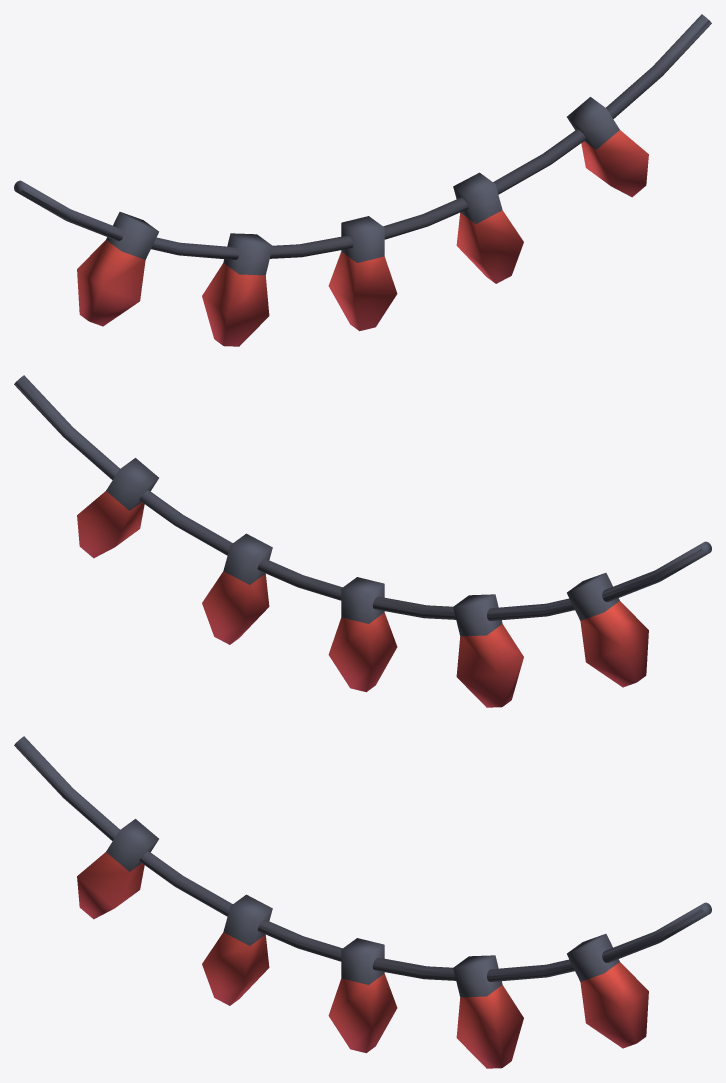
Rendered from lights-red_lev3.glb.
The picture shows the model from 3 angles, top to bottom: view 1: azimuth 30°, elevation 25°; view 2: azimuth 150°, elevation 25°; view 3: azimuth 330°, elevation 25°; orthographic projection.
Parts seen in each view (by area): view 1: lights-red_lev3; view 2: lights-red_lev3; view 3: lights-red_lev3.
Boxes of the visible parts, x1,y1,x2,y2 form: lights-red_lev3: (14, 14, 711, 346); lights-red_lev3: (14, 375, 711, 707); lights-red_lev3: (14, 736, 711, 1068).
Bounding box in the file's own units: 1.01 × 0.3162 × 0.0636.
1 material, 1 textured.
